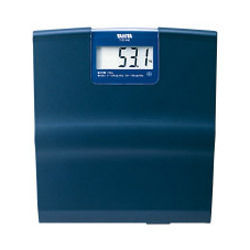LCD: (95, 45, 154, 71)
